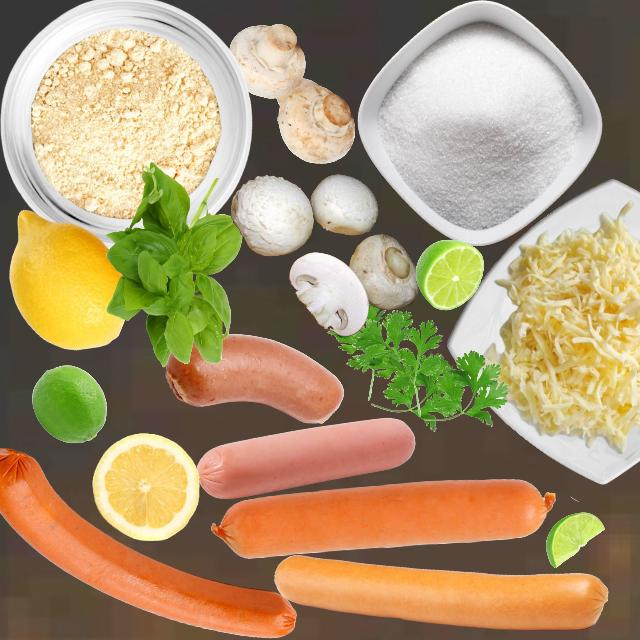Flour: (30, 27, 220, 219)
Sugar: (375, 21, 582, 230)
